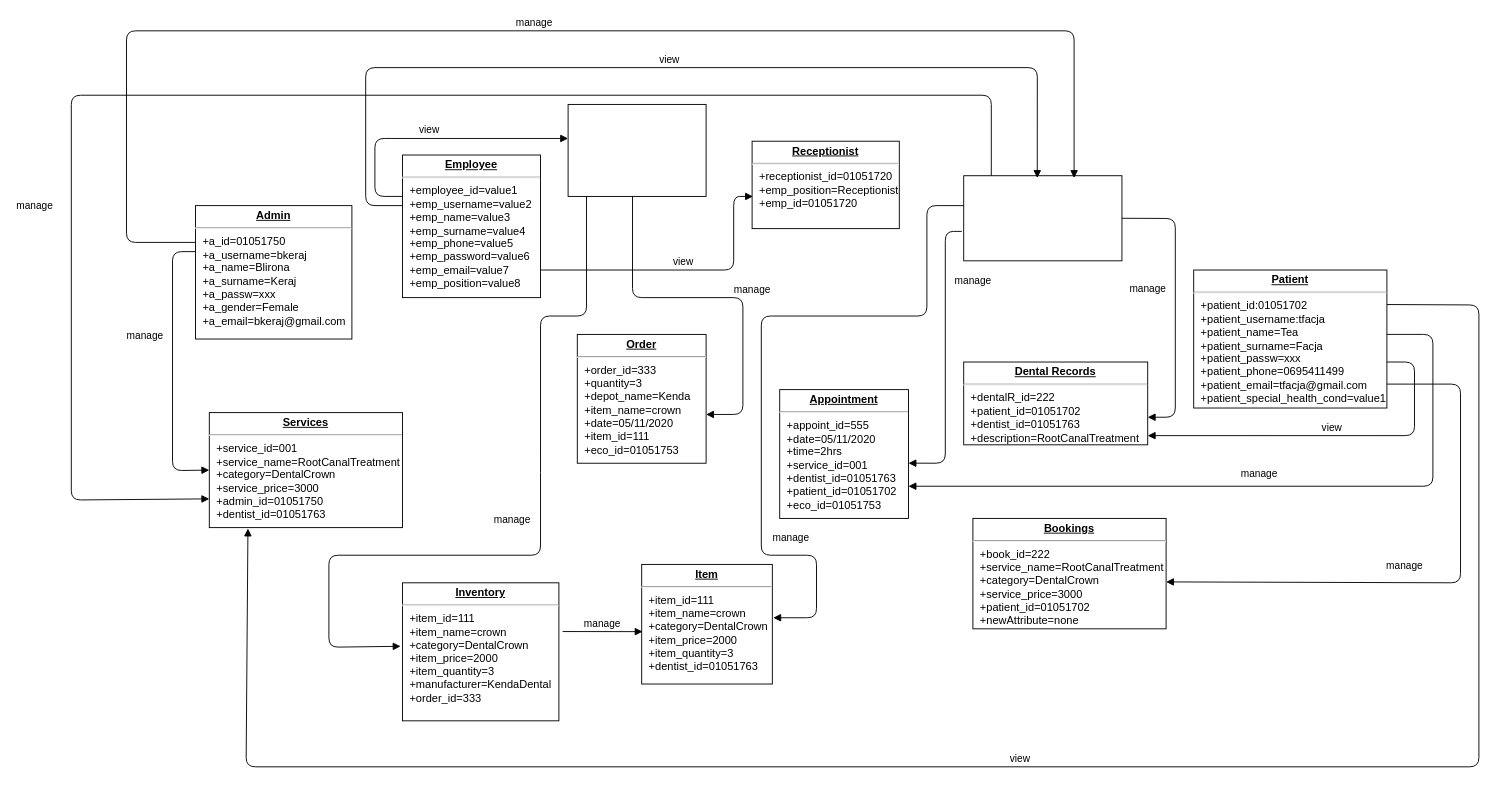
Image size: 1502x790. Some labels were removed from this diagram. The box of each missing label's shape, as (x1, y1, x2, y2) in pixels:
Dentist +dentist_id=01051763 +employee_id=01051763 +emp_position=Dentist: (963, 175, 1122, 261)
Economist +eco_id=01051753 +emp_position=Economist +employee_id=01051753: (567, 104, 706, 196)
